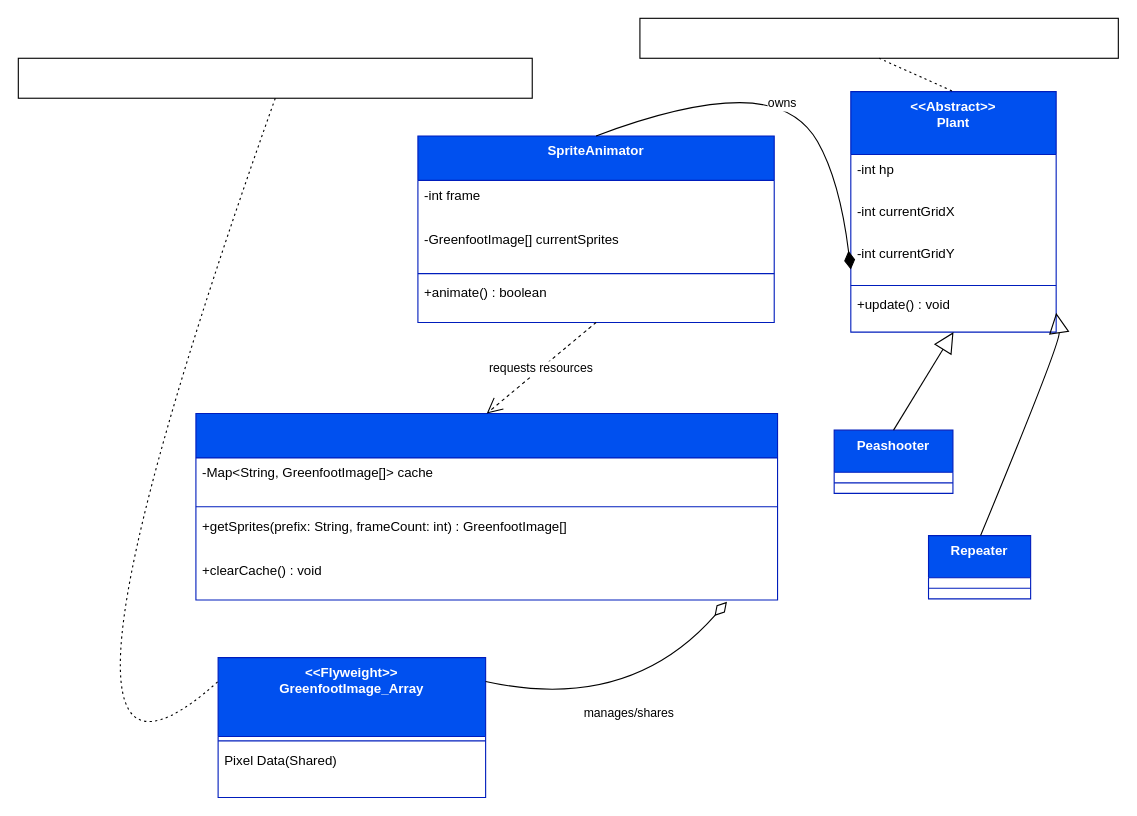
This 1137x816 diagram has some shape labels left out. Here are the shapes that lost their labels. From the top down, the box of each, then its label:
(639, 17, 1118, 58): Extrinsic State: Individual stats like HP and grid position.
(17, 57, 532, 98): Intrinsic State: Shared animation data that remains constant.
(195, 412, 778, 600): SpriteCache
